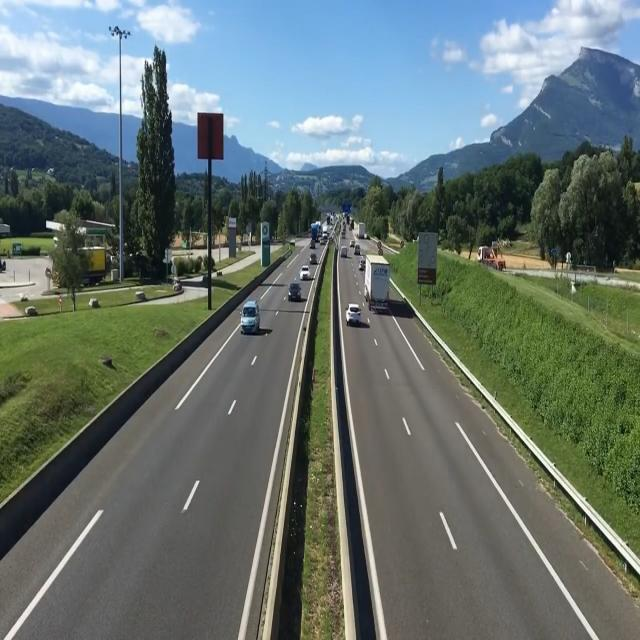car: (240, 300, 266, 338), (347, 300, 367, 330), (286, 283, 302, 305), (299, 265, 311, 282), (338, 244, 348, 260)
truck: (366, 254, 393, 315), (480, 243, 500, 269)
